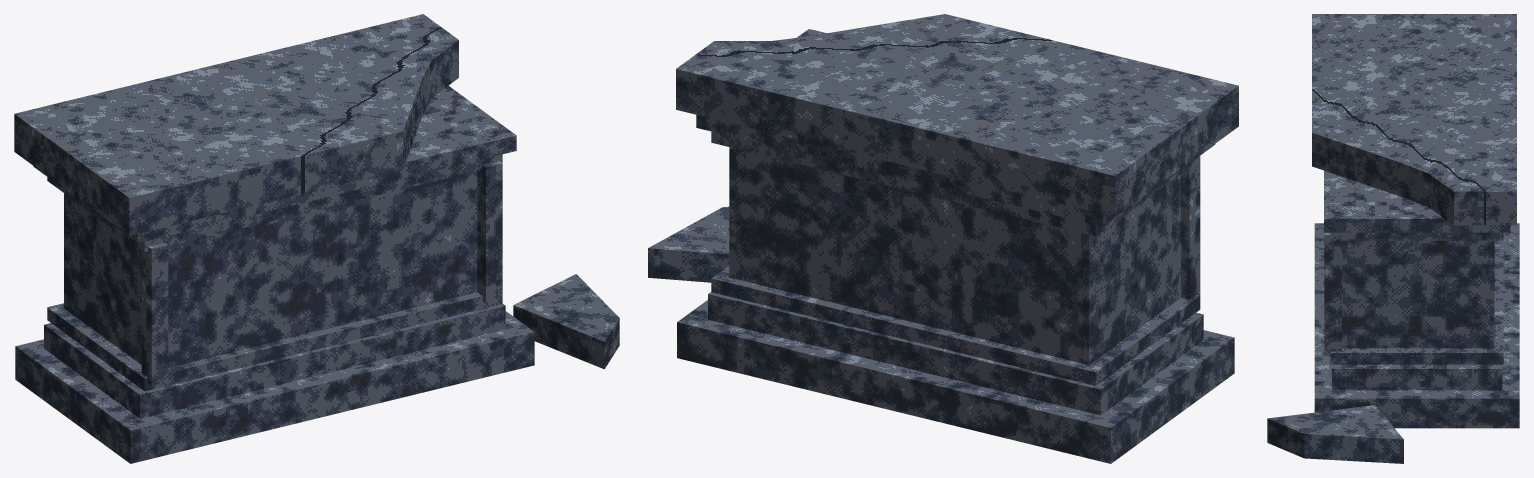
File: SM_Prop_AltarBroken_01.glb
3 views of the same model, side by side, from view 1: azimuth 30°, elevation 25°; view 2: azimuth 150°, elevation 25°; view 3: azimuth 270°, elevation 25° (orthographic). The views are drawn at different scales.
Parts seen in each view (by area): view 1: stone_top, stone_body, stone_plinth, stone_base_trim, stone_top_trim, stone_frame_low, stone_fragment, stone_frame_high, stone_frame_-1, stone_frame_1; view 2: stone_top, stone_body, stone_plinth, stone_base_trim, stone_frame_low, stone_top_trim, stone_frame_high, stone_fragment, stone_frame_-1; view 3: stone_top, stone_body, stone_plinth, stone_fragment, stone_top_trim, stone_base_trim, stone_frame_low, stone_frame_1, stone_frame_high.
Part boxes in pixels (x1=…): stone_top: x1=14, y1=14, x2=458, y2=235; stone_body: x1=64, y1=171, x2=477, y2=367; stone_plinth: x1=15, y1=311, x2=534, y2=463; stone_base_trim: x1=44, y1=304, x2=505, y2=418; stone_top_trim: x1=33, y1=86, x2=516, y2=243; stone_frame_low: x1=47, y1=292, x2=502, y2=391; stone_fragment: x1=513, y1=274, x2=619, y2=369; stone_frame_high: x1=47, y1=154, x2=502, y2=251; stone_frame_-1: x1=141, y1=242, x2=168, y2=385; stone_frame_1: x1=477, y1=161, x2=502, y2=303; stone_top: x1=676, y1=14, x2=1238, y2=216; stone_body: x1=729, y1=147, x2=1180, y2=364; stone_plinth: x1=677, y1=300, x2=1234, y2=463; stone_base_trim: x1=708, y1=292, x2=1203, y2=415; stone_frame_low: x1=711, y1=265, x2=1200, y2=385; stone_top_trim: x1=696, y1=29, x2=1215, y2=226; stone_frame_high: x1=711, y1=131, x2=1200, y2=236; stone_fragment: x1=648, y1=206, x2=729, y2=282; stone_frame_-1: x1=1181, y1=160, x2=1200, y2=299; stone_top: x1=1312, y1=14, x2=1516, y2=225; stone_body: x1=1342, y1=240, x2=1494, y2=348; stone_plinth: x1=1314, y1=223, x2=1519, y2=428; stone_fragment: x1=1267, y1=405, x2=1403, y2=463; stone_top_trim: x1=1324, y1=170, x2=1510, y2=232; stone_base_trim: x1=1331, y1=364, x2=1502, y2=390; stone_frame_low: x1=1330, y1=240, x2=1503, y2=364; stone_frame_1: x1=1324, y1=232, x2=1341, y2=356; stone_frame_high: x1=1330, y1=232, x2=1503, y2=240.
Size of the model in its own units: 1.95 by 1 by 0.96.
1 material, 1 textured.
